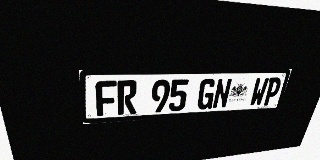5: (168, 79, 189, 112)
9: (151, 79, 171, 113)
F: (95, 80, 117, 116)
G: (196, 79, 217, 110)
N: (212, 78, 233, 109)
P: (262, 77, 283, 106)
R: (117, 80, 137, 115)
W: (249, 78, 269, 106)
